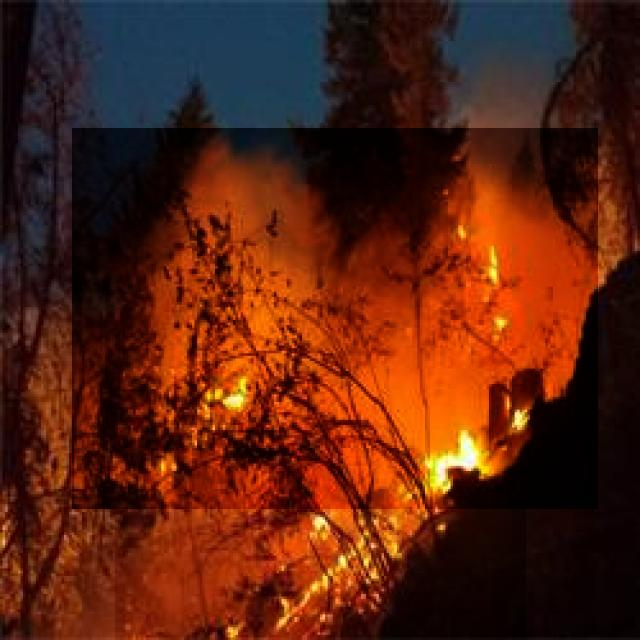Fire: (115, 208, 526, 640)
Smoke: (72, 128, 598, 509)
